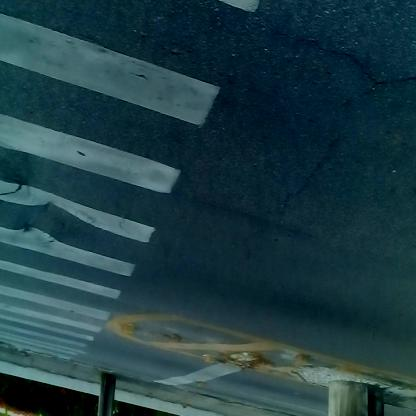crosswalk: (1, 2, 254, 348)
sidewalk: (3, 356, 301, 409)
